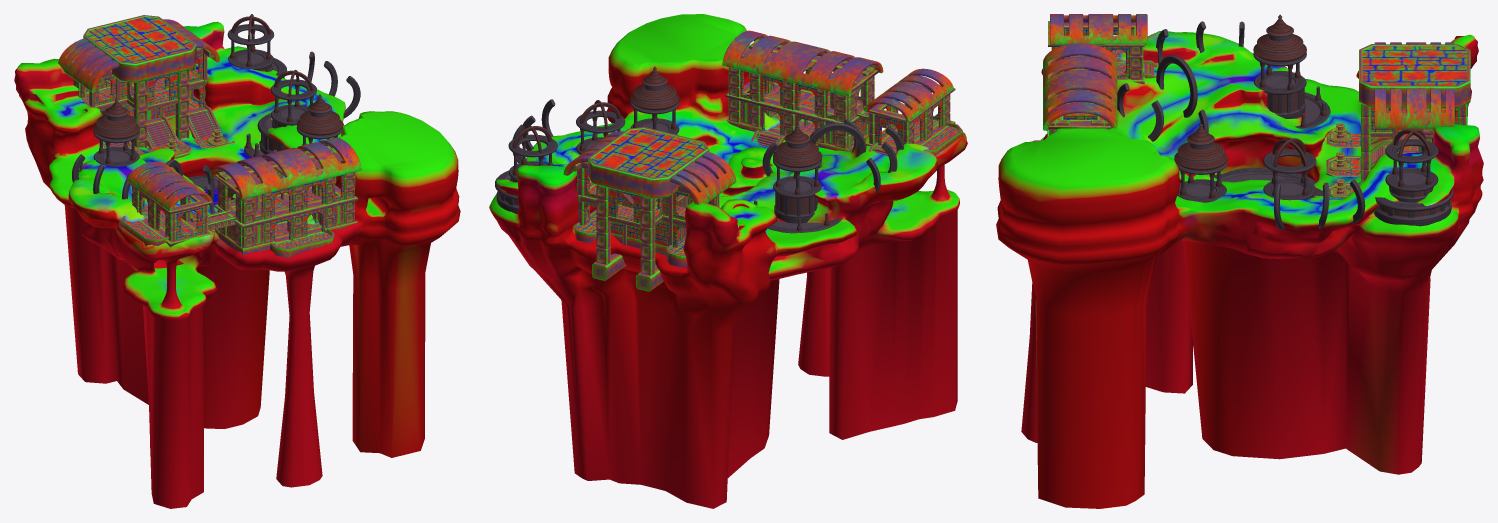
The model's file is Observatory Terrain 2 Overhaul.fbx.
The picture shows the model from 3 angles, left to right: view 1: azimuth 30°, elevation 25°; view 2: azimuth 150°, elevation 25°; view 3: azimuth 270°, elevation 25°; orthographic projection. The views are drawn at different scales.
Parts seen in each view (by area): view 1: Terrain New, Ruins 2.0, Round Temples 2.0; view 2: Terrain New, Ruins 2.0, Round Temples 2.0; view 3: Terrain New, Ruins 2.0, Round Temples 2.0.
Part boxes in pixels (<box>): Terrain New: <box>14,21,460,508</box>; Ruins 2.0: <box>58,15,361,257</box>; Round Temples 2.0: <box>72,14,360,213</box>; Terrain New: <box>489,14,967,508</box>; Ruins 2.0: <box>563,30,962,291</box>; Round Temples 2.0: <box>495,66,903,233</box>; Terrain New: <box>996,31,1483,508</box>; Ruins 2.0: <box>1032,14,1470,197</box>; Round Temples 2.0: <box>1117,14,1453,230</box>.
Size of the model in its own units: 8759 by 8242 by 9793.
